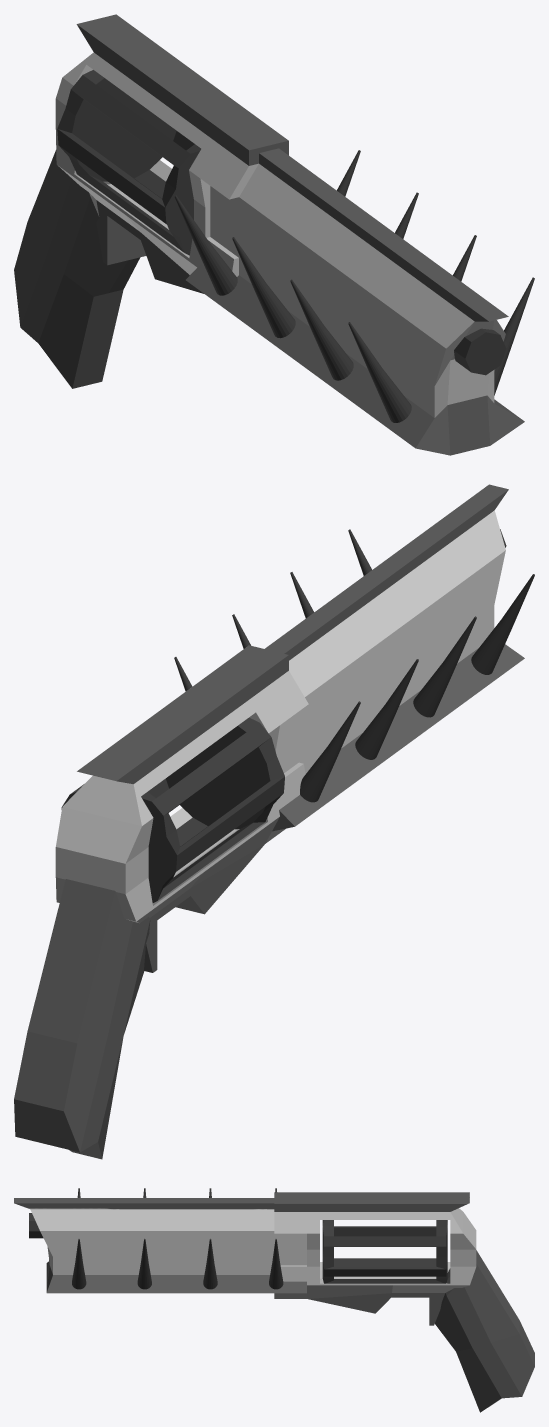
The model's file is HandCannon.fbx.
3 views of the same model, one above another, from view 1: azimuth 30°, elevation 25°; view 2: azimuth 150°, elevation 25°; view 3: azimuth 270°, elevation 25° (orthographic). The views are drawn at different scales.
Parts seen in each view (by area): view 1: Cube, Plane.001, Cube.001, Cylinder, Cylinder.002, Cylinder.001; view 2: Cube, Plane.001, Cube.001, Cylinder, Cylinder.002; view 3: Cube, Plane.001, Cube.001, Cylinder, Cylinder.002.
Boxes of the visible parts, box(x1,y1,x2,y2) form: Cube: box(186, 148, 524, 455); Plane.001: box(55, 14, 288, 293); Cube.001: box(14, 150, 140, 388); Cylinder: box(57, 70, 200, 255); Cylinder.002: box(174, 150, 534, 422); Cylinder.001: box(454, 328, 506, 375); Cube: box(265, 484, 524, 831); Plane.001: box(55, 645, 308, 972); Cube.001: box(14, 879, 150, 1159); Cylinder: box(61, 717, 284, 902); Cylinder.002: box(174, 529, 534, 802); Cube: box(14, 1198, 306, 1293); Plane.001: box(274, 1192, 476, 1325); Cube.001: box(435, 1250, 534, 1412); Cylinder: box(322, 1220, 447, 1283); Cylinder.002: box(72, 1188, 283, 1289).
Bounding box in the file's own units: 374 × 715 × 1600.
4 materials, 2 textured.
